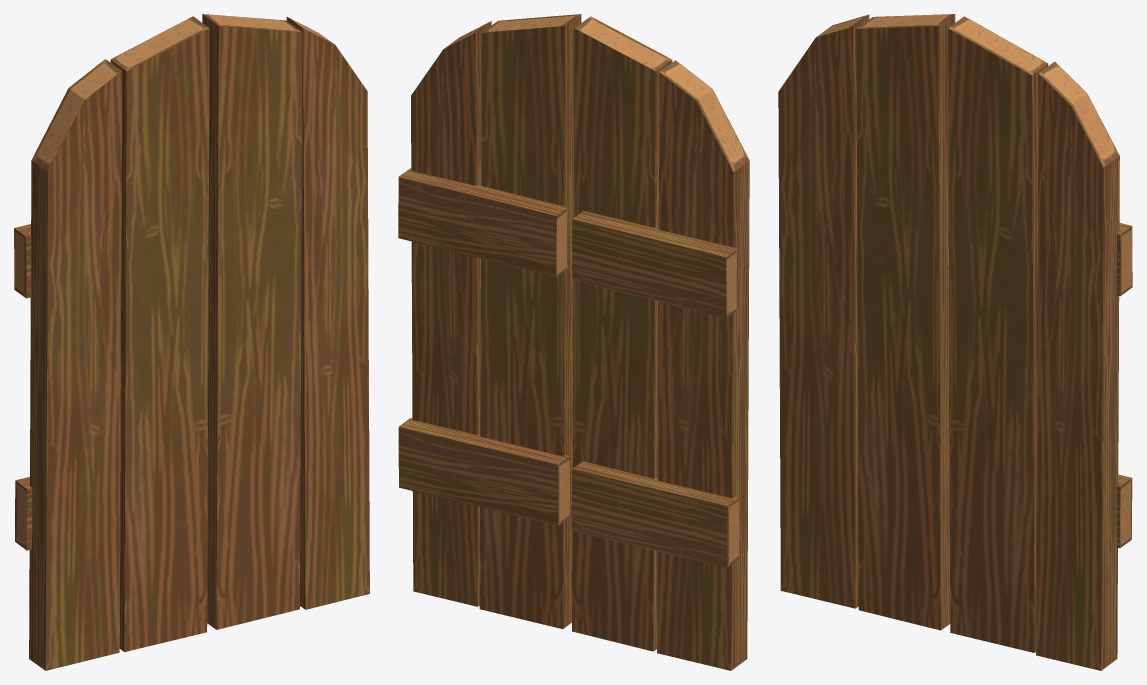
File: WindowShutters_Thin_Round_Closed.gltf
3 views of the same model, side by side, from view 1: azimuth 30°, elevation 25°; view 2: azimuth 150°, elevation 25°; view 3: azimuth 330°, elevation 25° (orthographic).
Parts seen in each view (by area): view 1: WindowShutters_Thin_Round_Closed; view 2: WindowShutters_Thin_Round_Closed; view 3: WindowShutters_Thin_Round_Closed.
Boxes of the visible parts, x1,y1,x2,y2 form: WindowShutters_Thin_Round_Closed: [14, 14, 369, 670]; WindowShutters_Thin_Round_Closed: [398, 14, 749, 670]; WindowShutters_Thin_Round_Closed: [778, 14, 1132, 670].
Bounding box in the file's own units: 0.8674 × 1.52 × 0.1358.
1 material, 1 textured.
